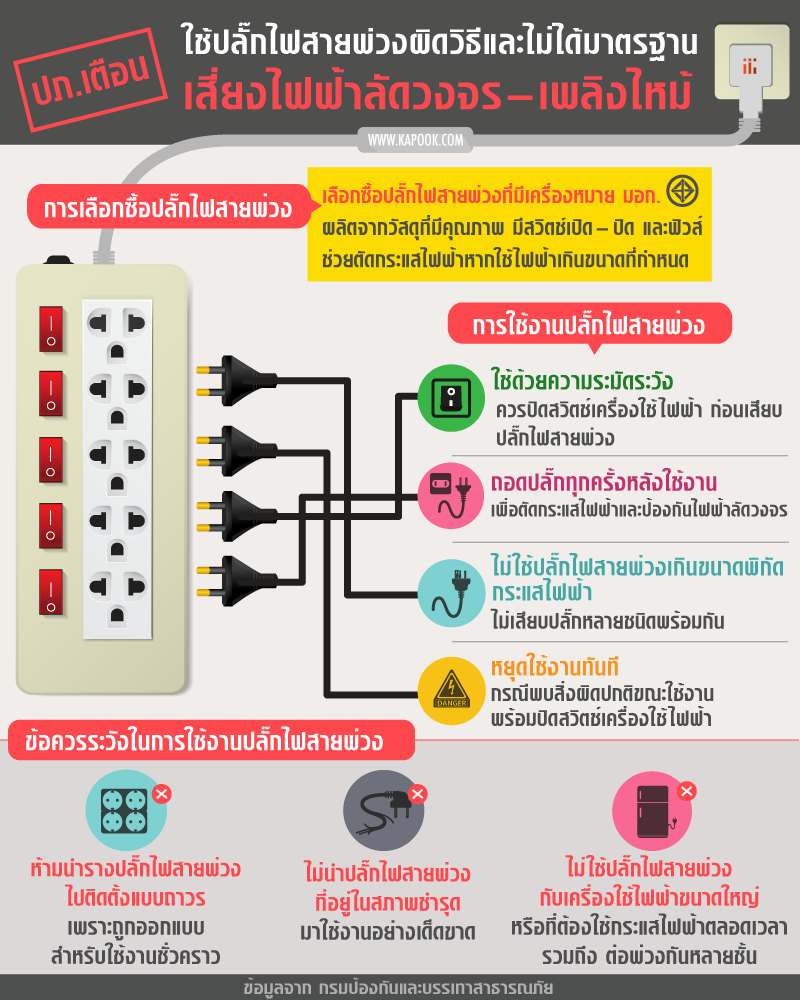Three_eye_plug: (12, 248, 209, 700)
